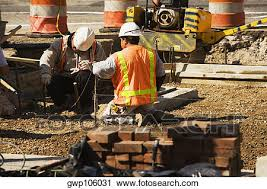helmet: (75, 28, 95, 49), (119, 21, 141, 38)
vest: (114, 50, 159, 104)
